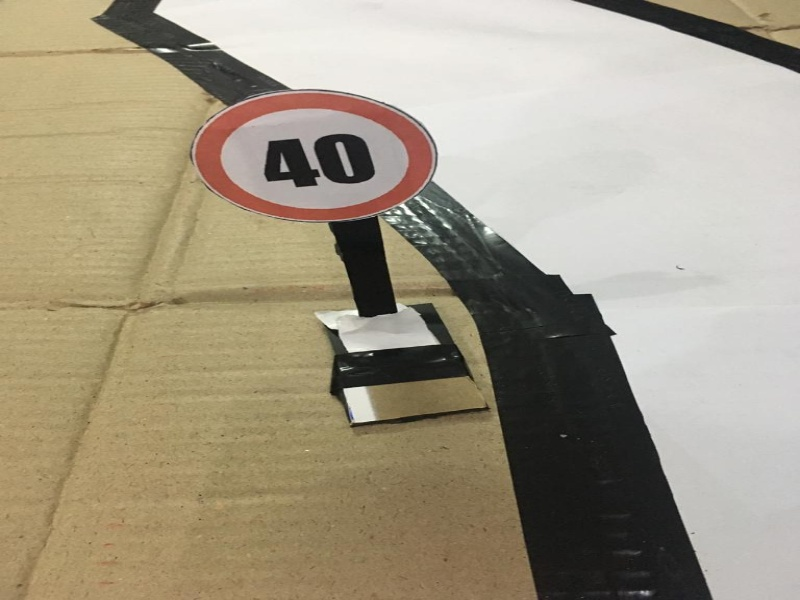Speed Limit 40: (175, 89, 442, 227)
